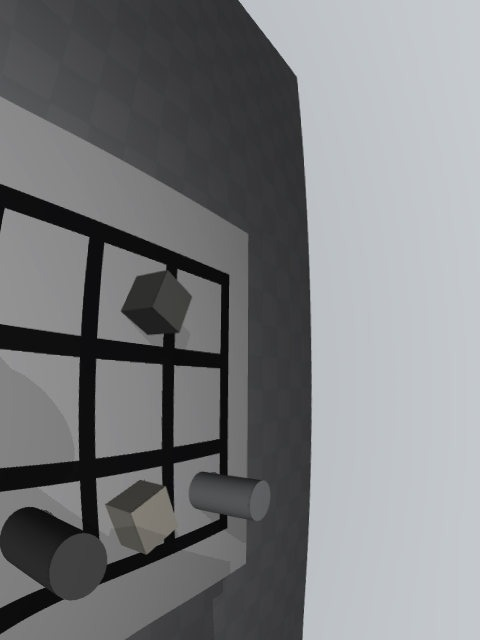can: (189, 472, 270, 521)
cube: (120, 270, 192, 335)
cylinder: (0, 507, 108, 601)
foam: (105, 480, 178, 555)
